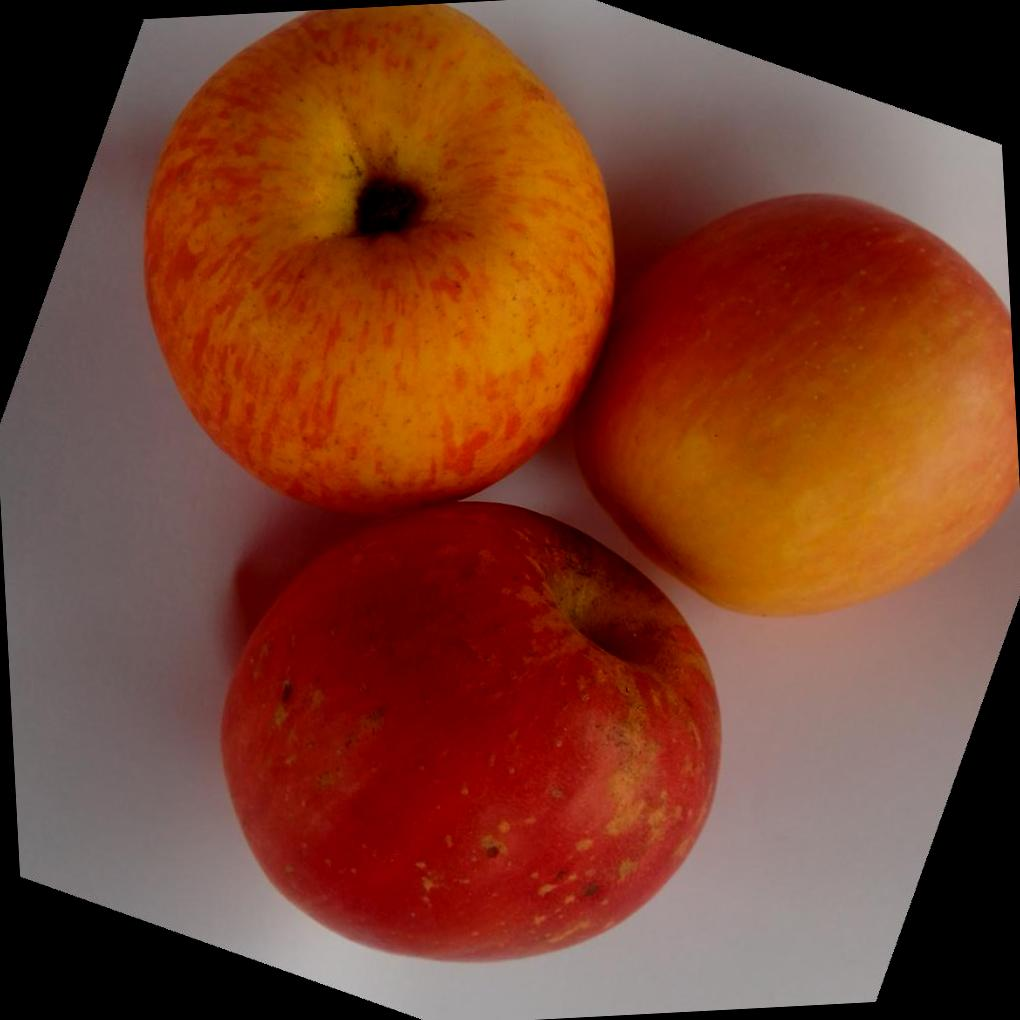FreshGuava: (137, 3, 1019, 963)
